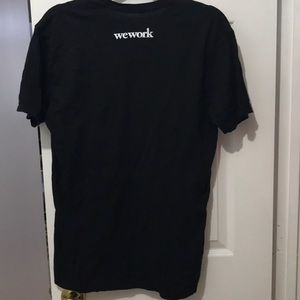wework: (111, 27, 155, 40)
